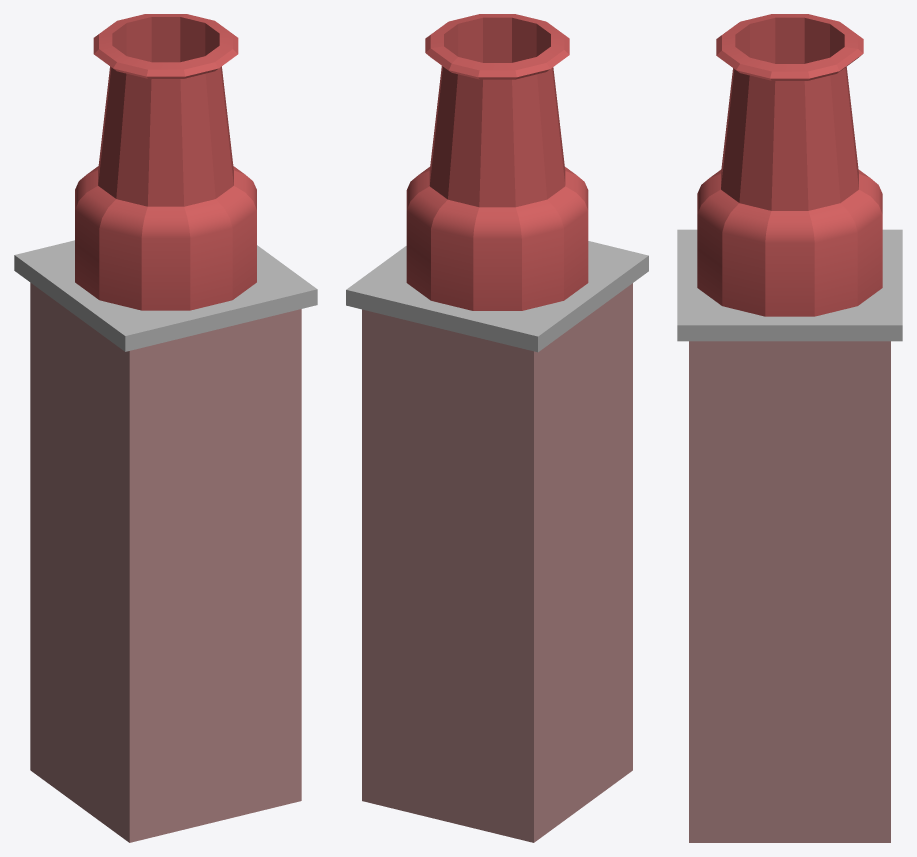
The model's file is Building_Facade_Modular_Chimney_Roof_01.fbx.
3 views of the same model, side by side, from view 1: azimuth 30°, elevation 25°; view 2: azimuth 150°, elevation 25°; view 3: azimuth 270°, elevation 25° (orthographic).
Parts seen in each view (by area): view 1: Building_Facade_Modular_Chimney_Roof_01; view 2: Building_Facade_Modular_Chimney_Roof_01; view 3: Building_Facade_Modular_Chimney_Roof_01.
Part boxes in pixels (box(x1,y1,x2,y2)): Building_Facade_Modular_Chimney_Roof_01: box(14, 14, 317, 842); Building_Facade_Modular_Chimney_Roof_01: box(346, 14, 648, 842); Building_Facade_Modular_Chimney_Roof_01: box(677, 14, 902, 842).
Size of the model in its own units: 22.86 by 84.79 by 22.83.
